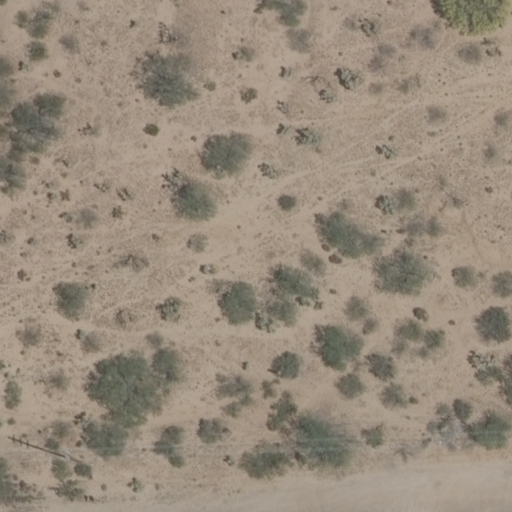DT: (10, 436, 64, 457)
